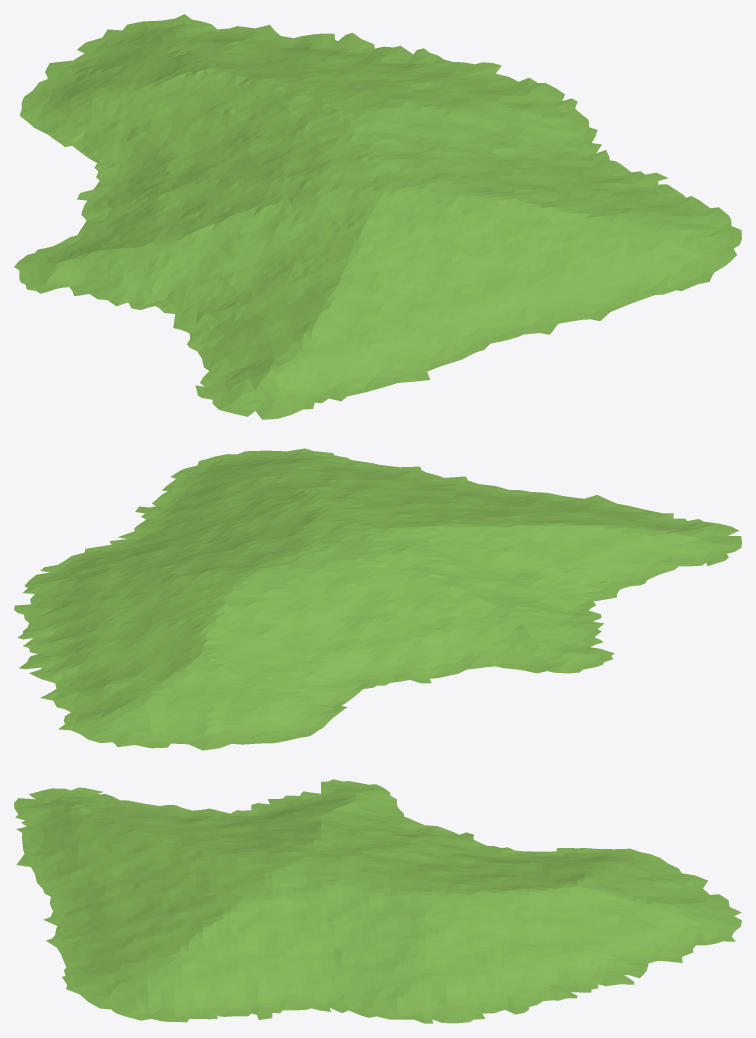
The model's file is MT_Island_H_b_02.fbx.
The picture shows the model from 3 angles, top to bottom: view 1: azimuth 30°, elevation 25°; view 2: azimuth 150°, elevation 25°; view 3: azimuth 270°, elevation 25°; orthographic projection. The views are drawn at different scales.
Parts seen in each view (by area): view 1: MT_Island_H_b_02; view 2: MT_Island_H_b_02; view 3: MT_Island_H_b_02.
Part boxes in pixels (box(x1,y1,x2,y2)): MT_Island_H_b_02: box(14, 14, 741, 419); MT_Island_H_b_02: box(14, 448, 741, 750); MT_Island_H_b_02: box(14, 779, 741, 1023).
Bounding box in the file's own units: 32778 × 2476 × 41321.
